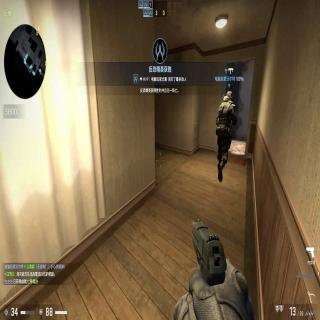CT-Body: (215, 90, 237, 182)
CT-Head: (226, 90, 233, 102)
